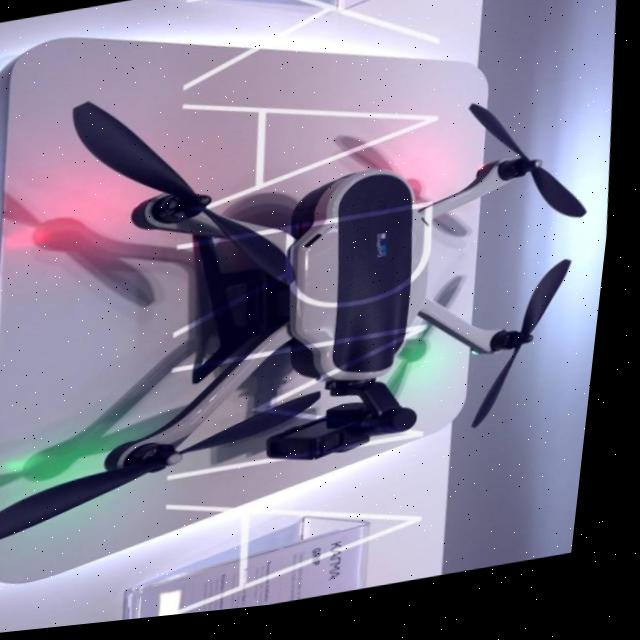drones: (0, 42, 632, 565)
